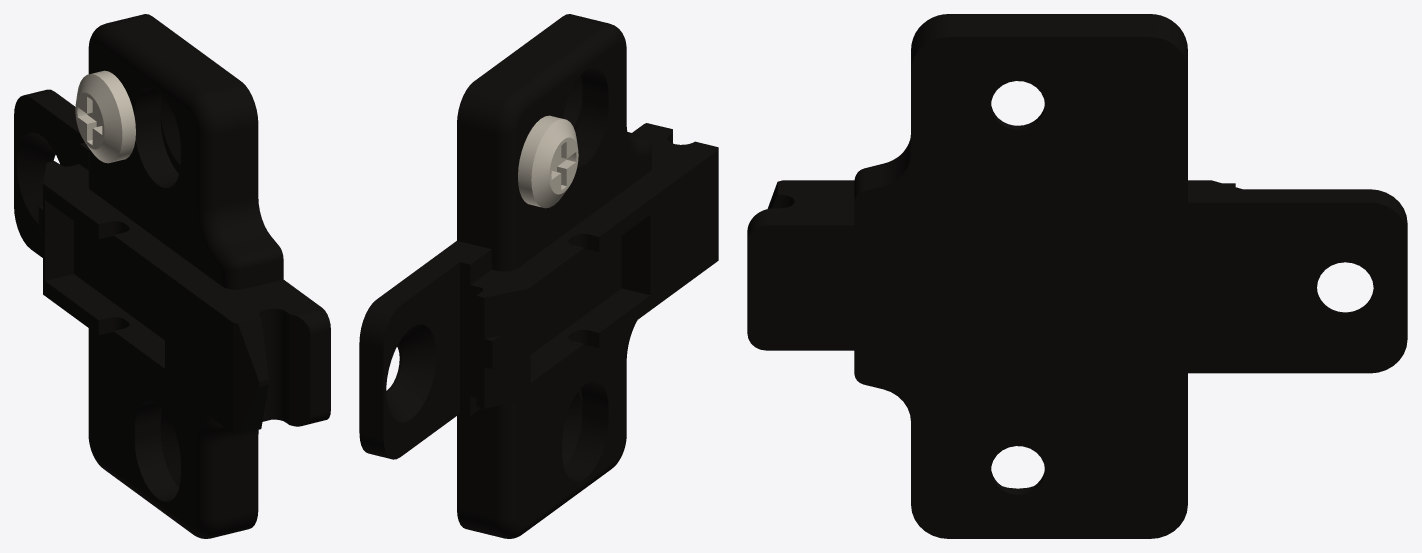
The picture shows the model from 3 angles, left to right: view 1: azimuth 30°, elevation 25°; view 2: azimuth 150°, elevation 25°; view 3: azimuth 270°, elevation 25°; orthographic projection. The views are drawn at different scales.
Visible parts, largest first — view 1: bau0006172789; view 2: bau0006172789; view 3: bau0006172789.
Boxes of the visible parts, left/top/right/bottom form: bau0006172789: left=14, top=14, right=330, bottom=538; bau0006172789: left=359, top=14, right=718, bottom=538; bau0006172789: left=747, top=14, right=1407, bottom=538.
Size of the model in its own units: 8.5 by 44 by 52.45.
